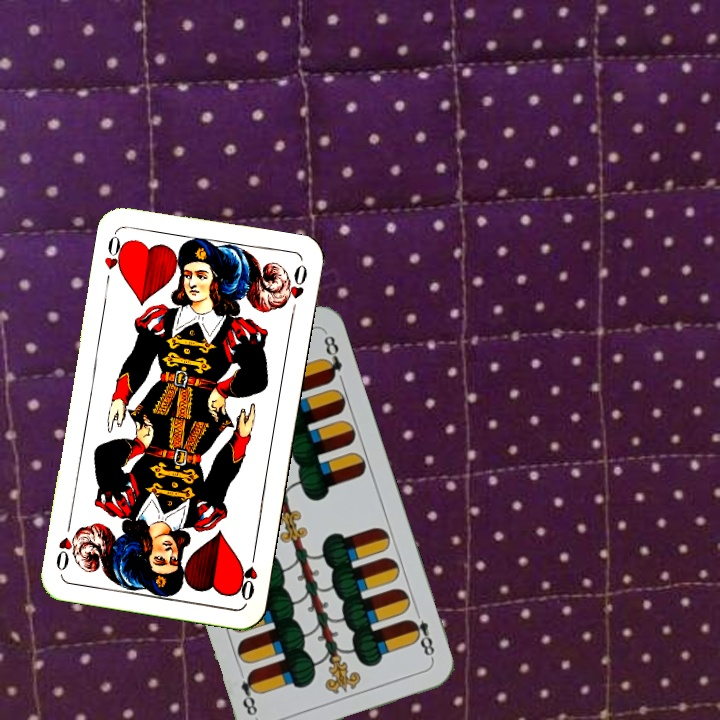E8: (405, 605, 437, 663)
HO: (233, 546, 260, 604), (100, 229, 129, 278)
